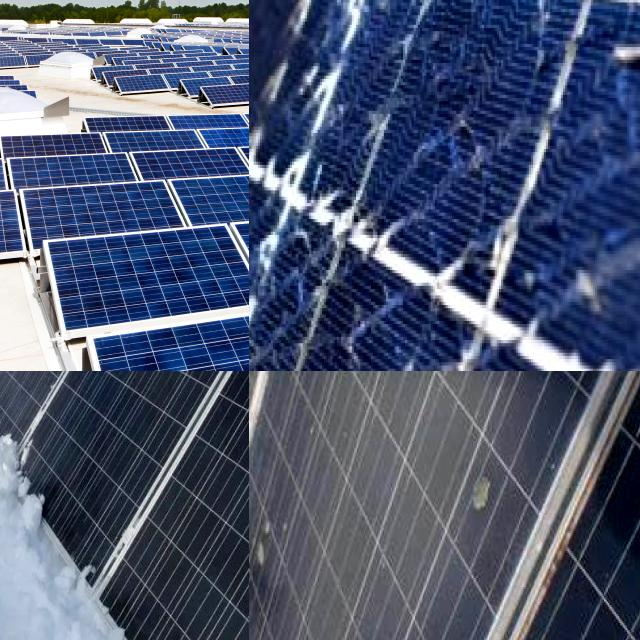crack: (27, 219, 249, 345), (11, 178, 202, 270), (160, 158, 249, 239), (0, 190, 57, 271)
dust: (468, 371, 589, 434), (303, 371, 371, 460), (432, 452, 530, 513), (350, 371, 438, 417), (251, 507, 298, 583), (249, 421, 276, 540), (249, 371, 280, 459), (249, 371, 306, 399)
hotspot: (249, 114, 449, 371), (471, 0, 628, 234)
panel: (11, 472, 97, 614), (0, 371, 67, 485), (0, 385, 48, 474)
